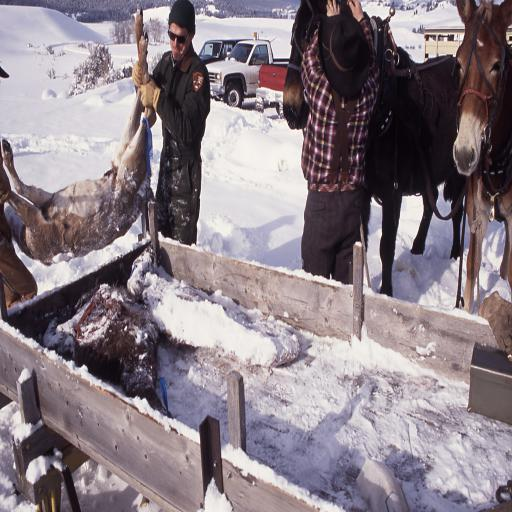horse: (282, 0, 464, 297), (453, 0, 512, 315)
